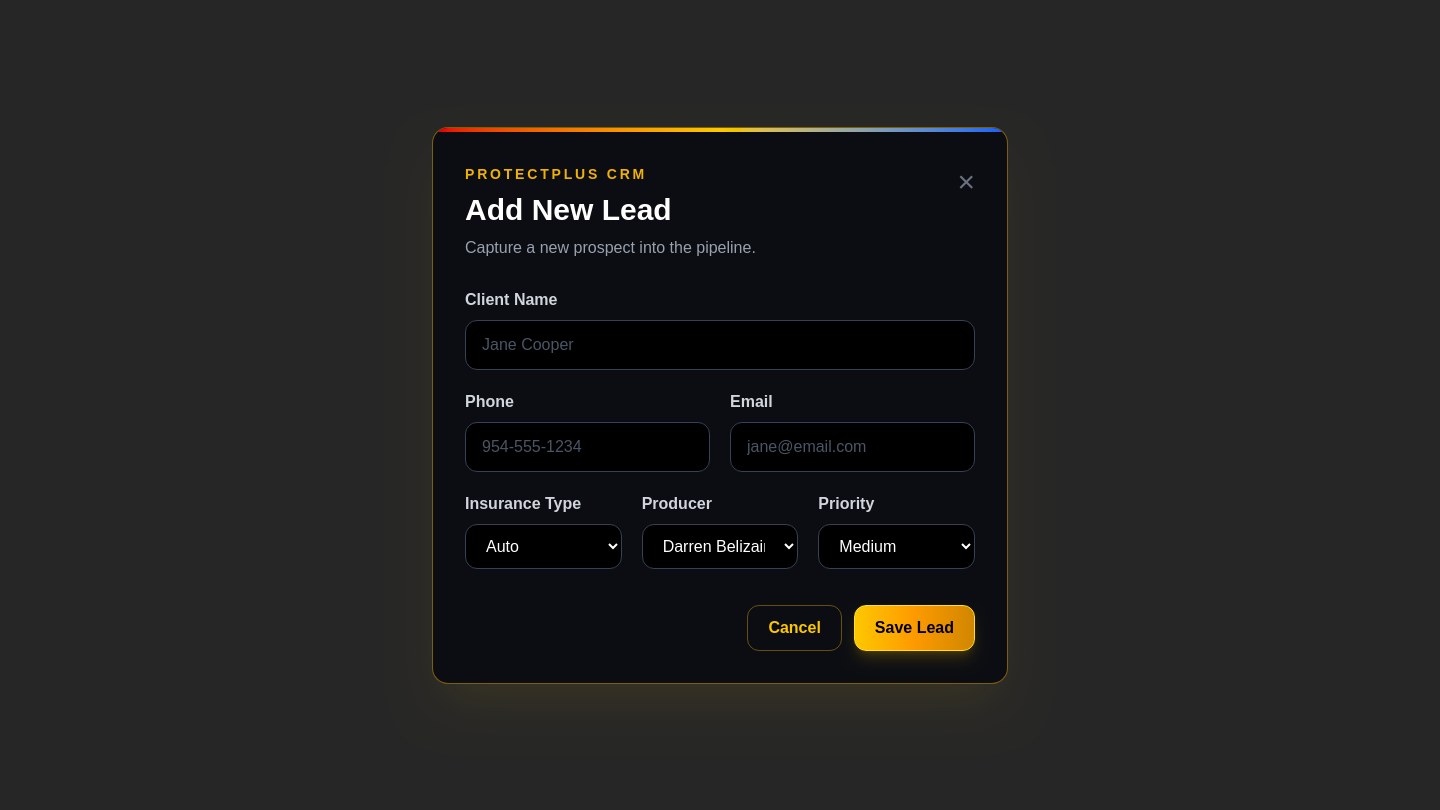
Test case: AddLeadModal › clears the form when cancelled, so the next open starts blank
Type "Should Not Persist" into the field with placeholder "Jane Cooper" at (720, 344), box [465, 320, 975, 370]
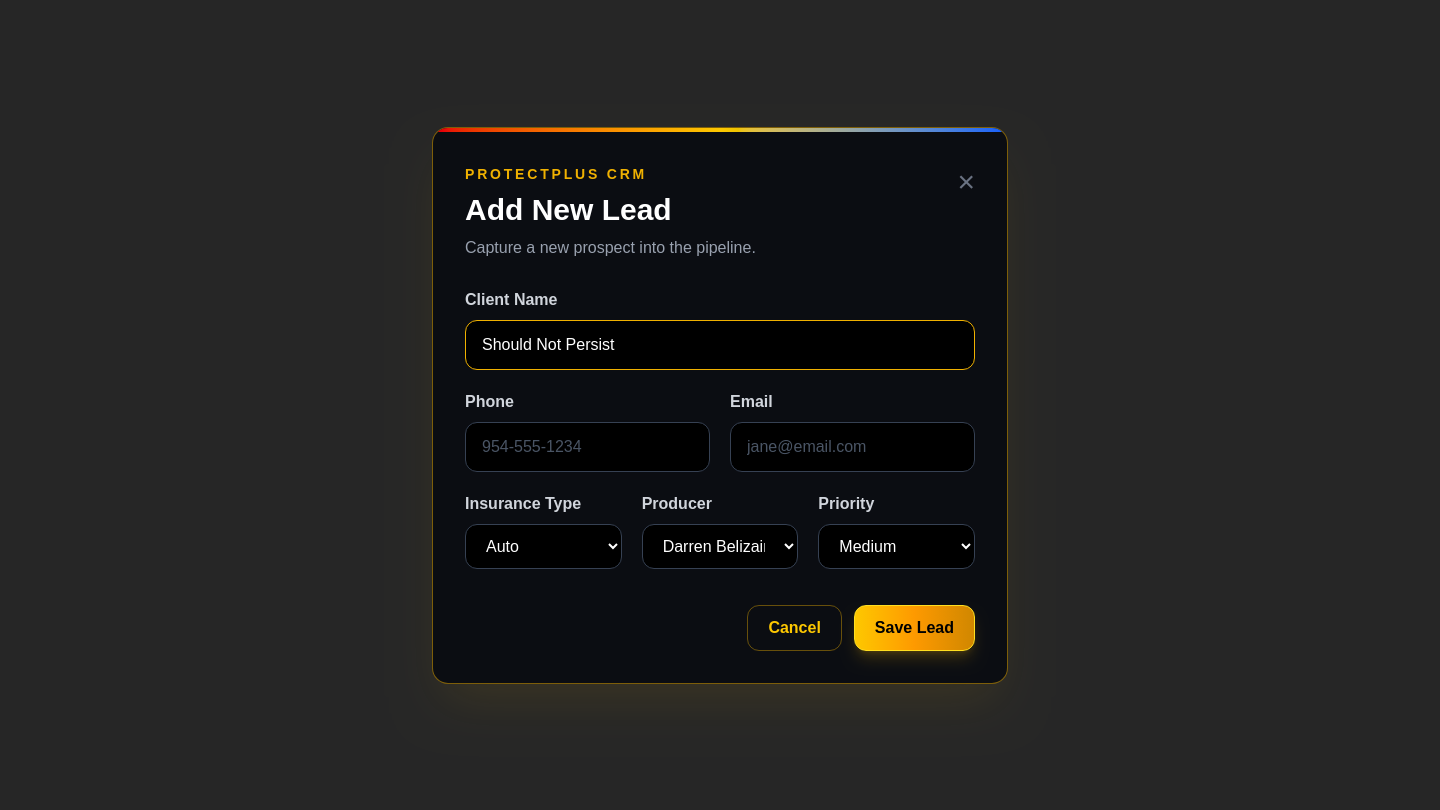
Click the button "Cancel" at (795, 628), box [747, 604, 842, 650]
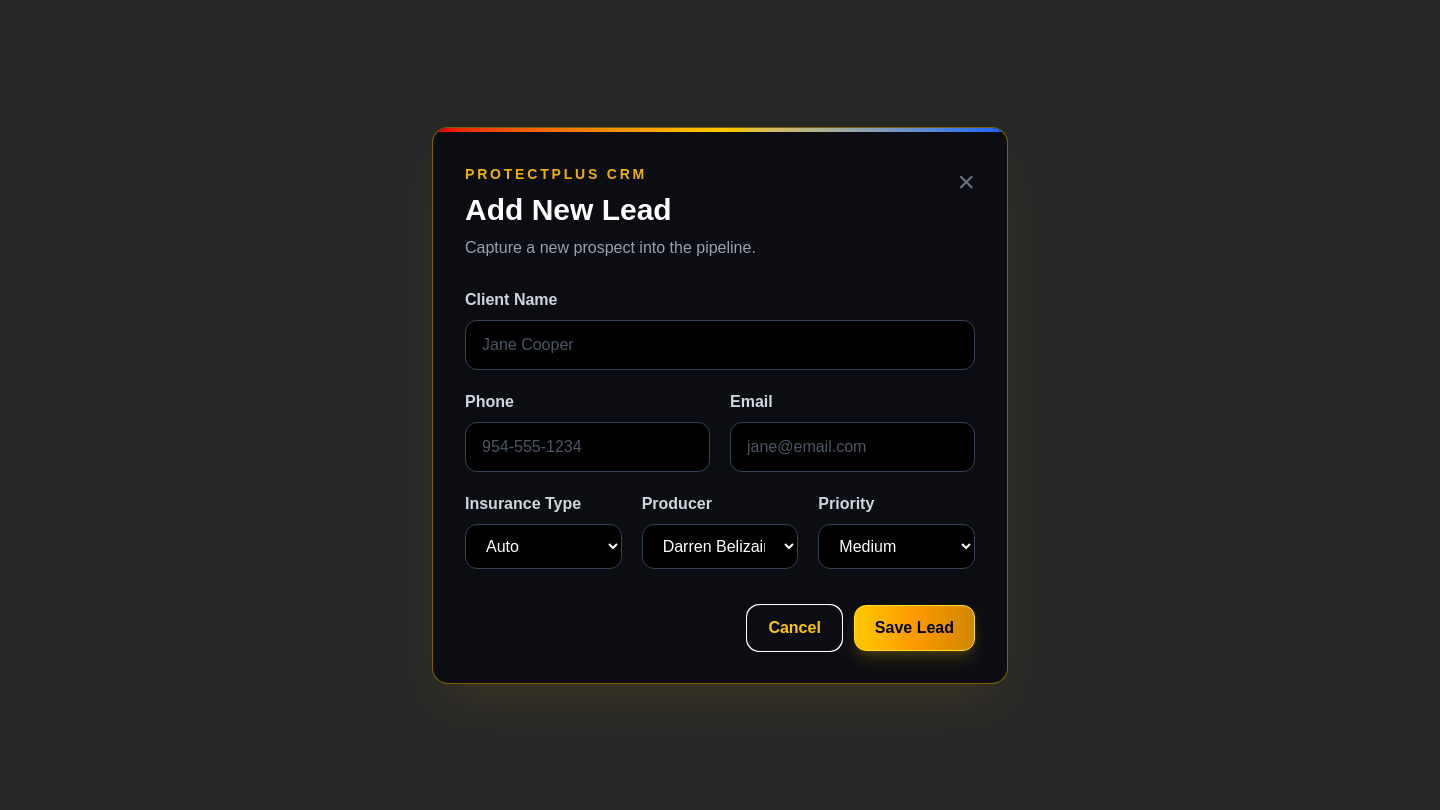
Check: the field with placeholder "Jane Cooper" is empty, box [465, 320, 975, 370]
